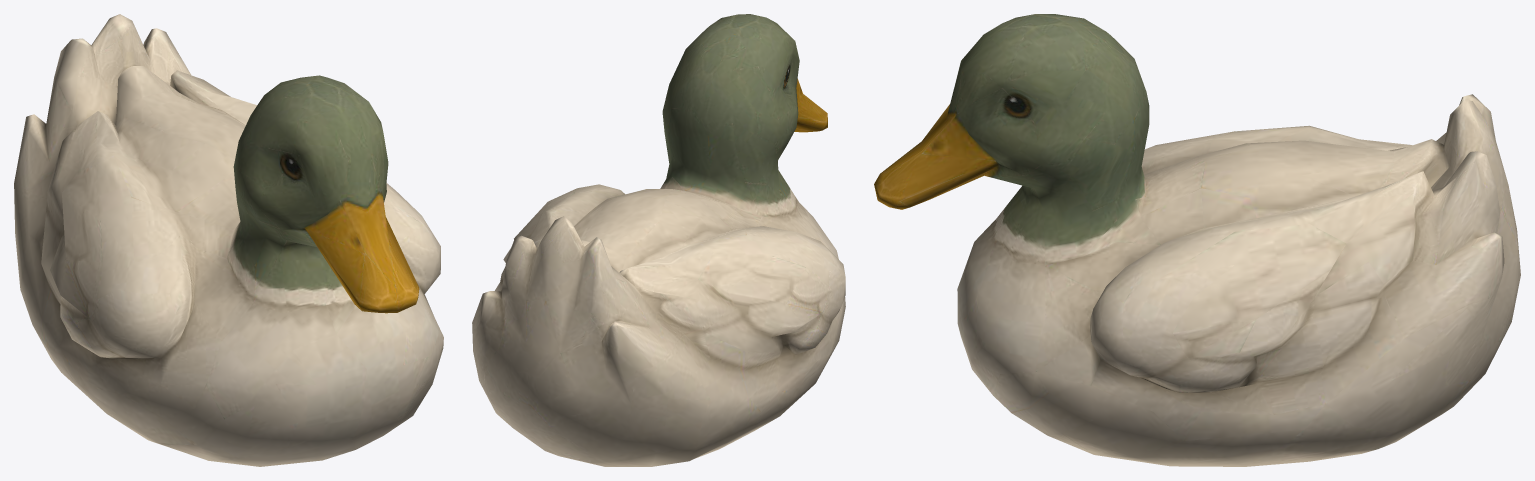
The model's file is duck.glb.
The picture shows the model from 3 angles, left to right: view 1: azimuth 30°, elevation 25°; view 2: azimuth 150°, elevation 25°; view 3: azimuth 270°, elevation 25°; orthographic projection. The views are drawn at different scales.
Visible parts, largest first — view 1: duck; view 2: duck; view 3: duck.
Boxes of the visible parts, left/top/right/bottom form: duck: left=14, top=14, right=443, bottom=466; duck: left=472, top=14, right=845, bottom=466; duck: left=874, top=14, right=1520, bottom=466.
Bounding box in the file's own units: 0.2822 × 0.3 × 0.4525.
Materials: 1 (1 with a texture image).
